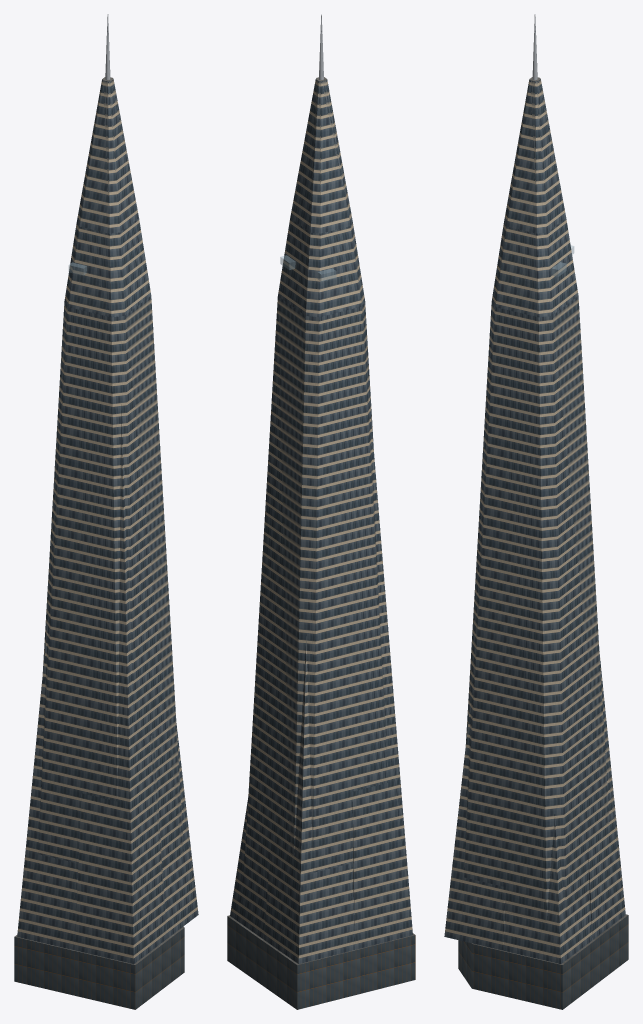
The model's file is onev.glb.
3 renders of one model, left to right at view 1: azimuth 90°, elevation 25°; view 2: azimuth 150°, elevation 25°; view 3: azimuth 270°, elevation 25°, orthographic.
Parts seen in each view (by area): view 1: onev; view 2: onev; view 3: onev.
Boxes of the visible parts, x1,y1,x2,y2 form: onev: (14, 14, 198, 1009); onev: (227, 14, 415, 1009); onev: (444, 14, 628, 1009).
Size of the model in its own units: 75.25 by 427 by 74.53.
19 materials, 17 textured.
